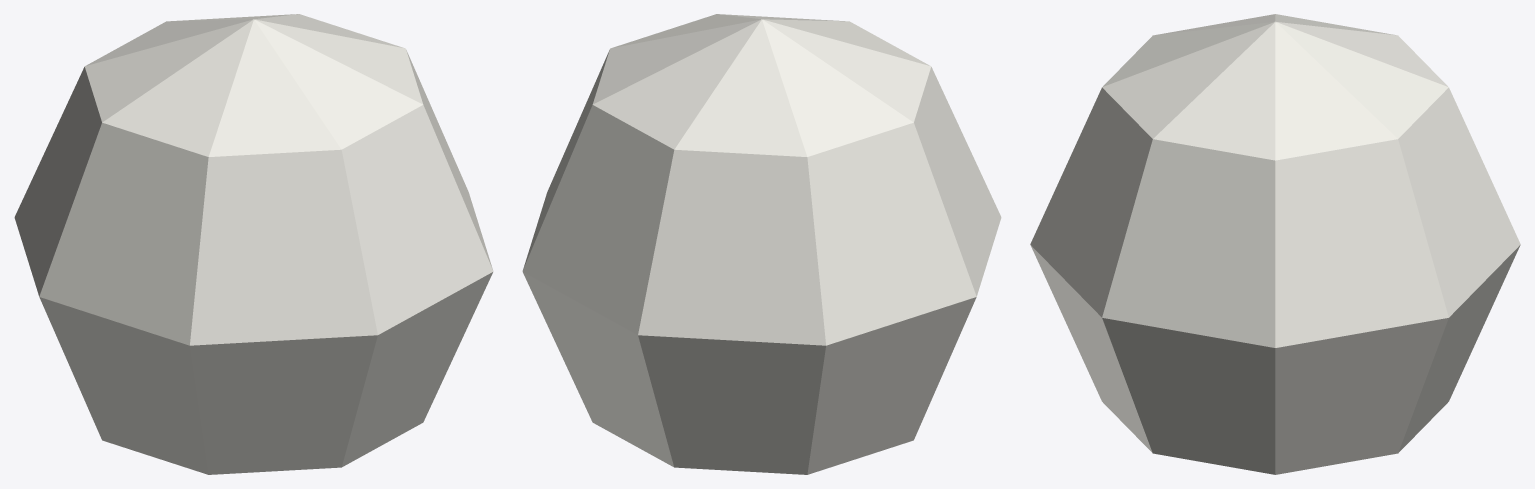
File: GS_GolfBall_01.glb
3 renders of one model, left to right at view 1: azimuth 30°, elevation 25°; view 2: azimuth 150°, elevation 25°; view 3: azimuth 270°, elevation 25°, orthographic.
Parts seen in each view (by area): view 1: GS_GolfBall_01; view 2: GS_GolfBall_01; view 3: GS_GolfBall_01.
Part boxes in pixels (x1,y1,x2,y2): GS_GolfBall_01: (14,14,493,474); GS_GolfBall_01: (522,14,1001,474); GS_GolfBall_01: (1030,14,1520,474).
Bounding box in the file's own units: 0.0428 × 0.0428 × 0.0428.
Materials: 1 (1 with a texture image).
